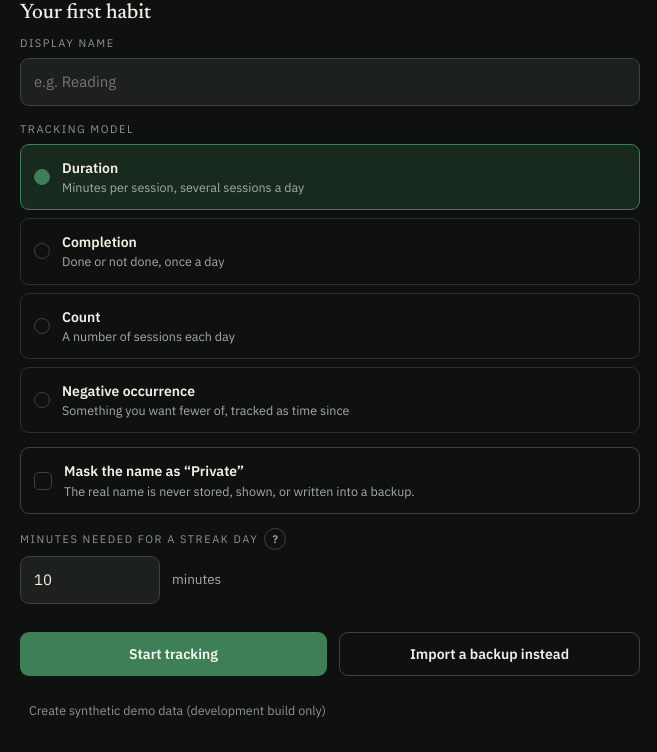
Scenario: Onboarding › refuses to continue without a name unless the habit is masked
(page scrolled)
Click the button "Start tracking" at (174, 654), box [20,632,327,676]
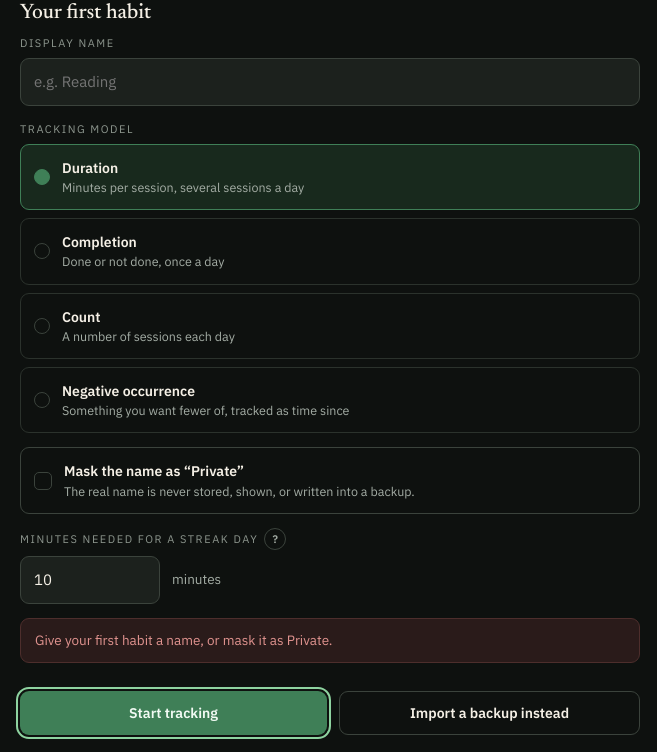
Expected: the message shows "Give your first habit a name", [35,631,332,649]
